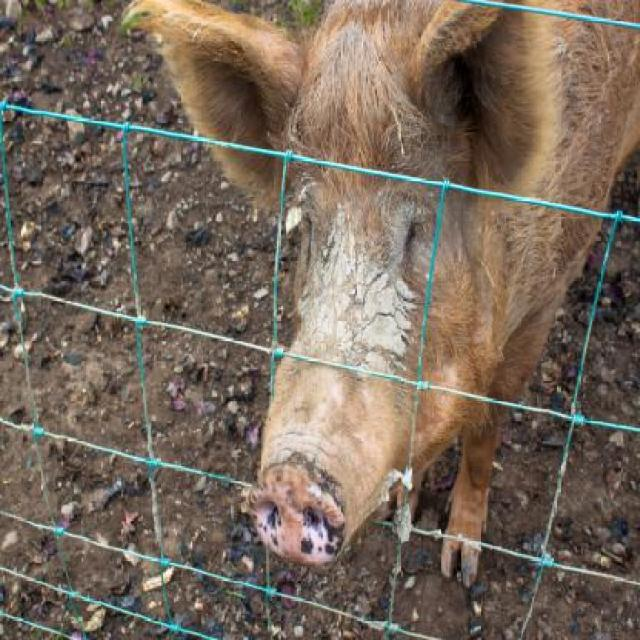pig: (120, 0, 640, 589)
